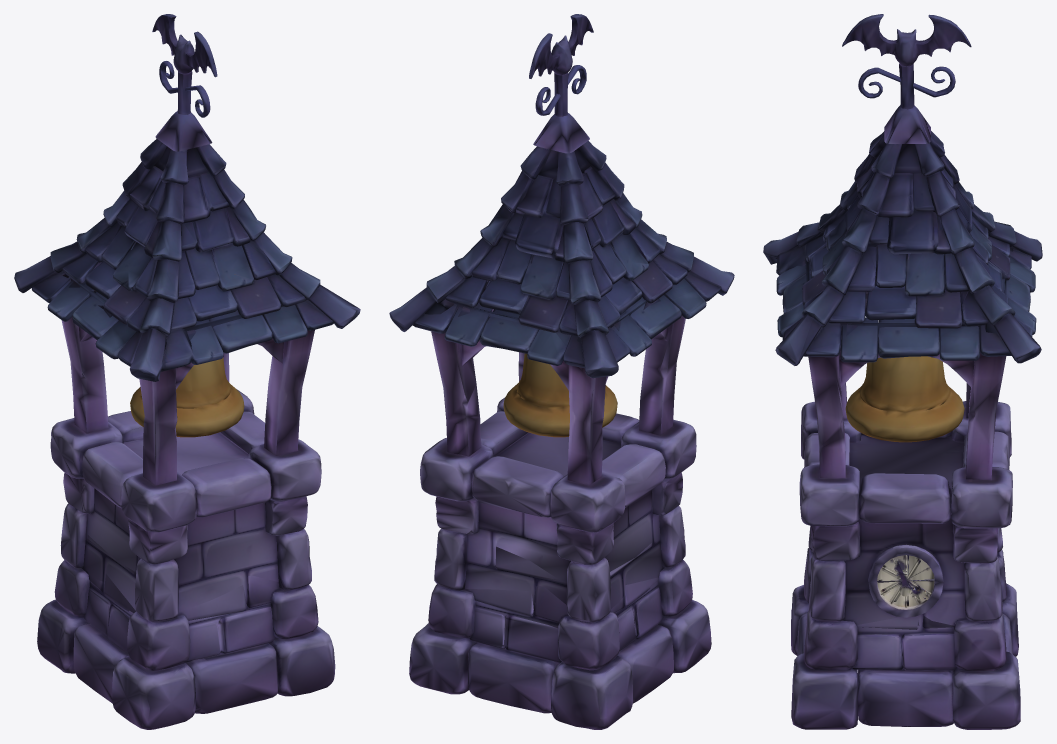
The model's file is L6_BellTower_LOD0.fbx.
The picture shows the model from 3 angles, left to right: view 1: azimuth 30°, elevation 25°; view 2: azimuth 150°, elevation 25°; view 3: azimuth 270°, elevation 25°; orthographic projection. The views are drawn at different scales.
Parts seen in each view (by area): view 1: L6_BellTower_LOD0; view 2: L6_BellTower_LOD0; view 3: L6_BellTower_LOD0.
Boxes of the visible parts, bbox=[...] form: L6_BellTower_LOD0: bbox=[14, 14, 360, 729]; L6_BellTower_LOD0: bbox=[389, 14, 734, 729]; L6_BellTower_LOD0: bbox=[763, 14, 1042, 729].
Size of the model in its own units: 3.04 by 8 by 3.04.
Materials: 1 (1 with a texture image).
